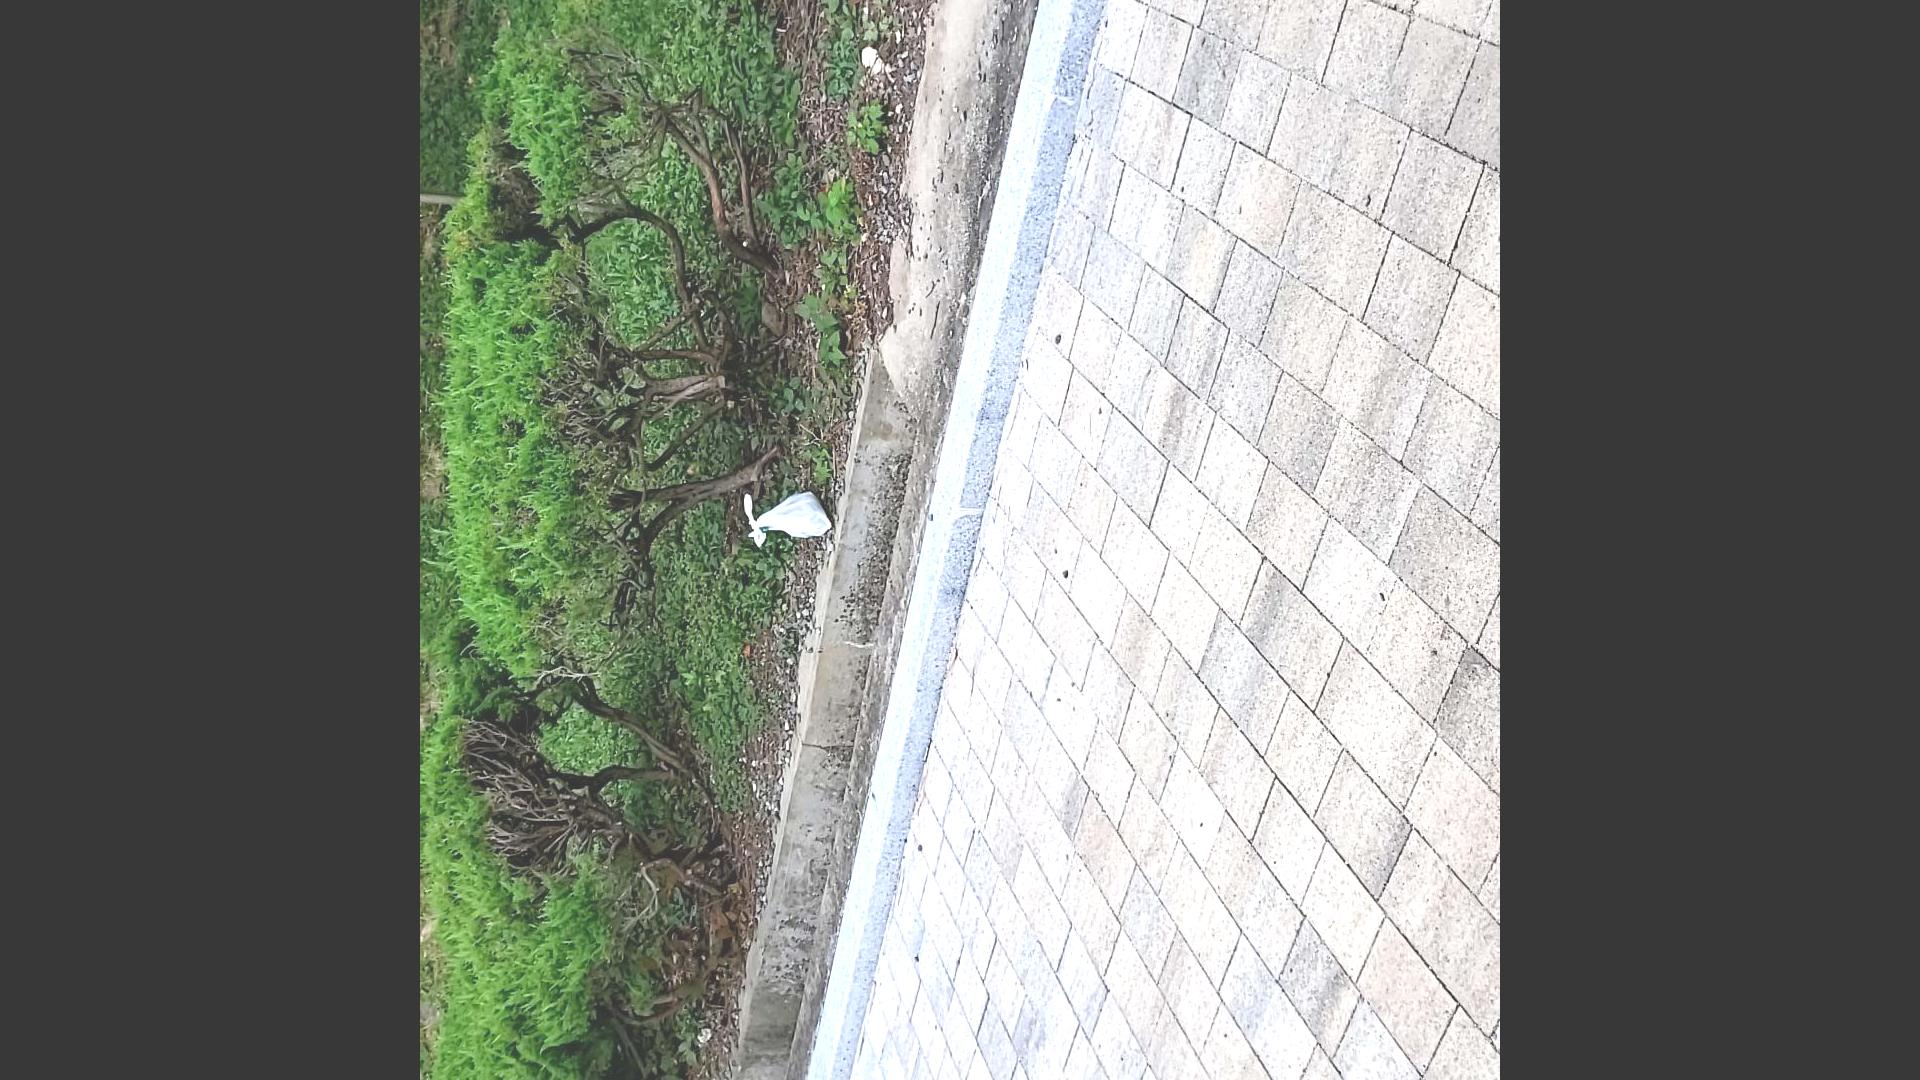white_bag: (737, 483, 833, 553)
